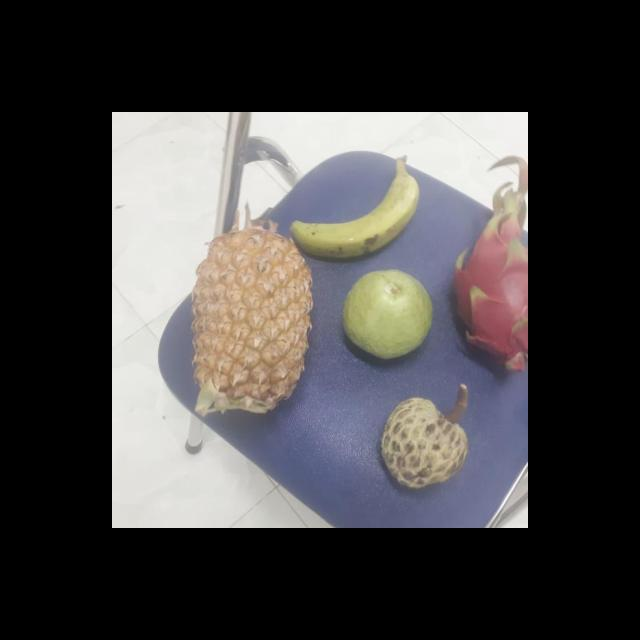Sakya fruit: (376, 392, 470, 491)
banana: (276, 152, 422, 261)
guava: (338, 268, 432, 362)
pineapple: (188, 230, 314, 418)
pitaya: (450, 215, 528, 374)
